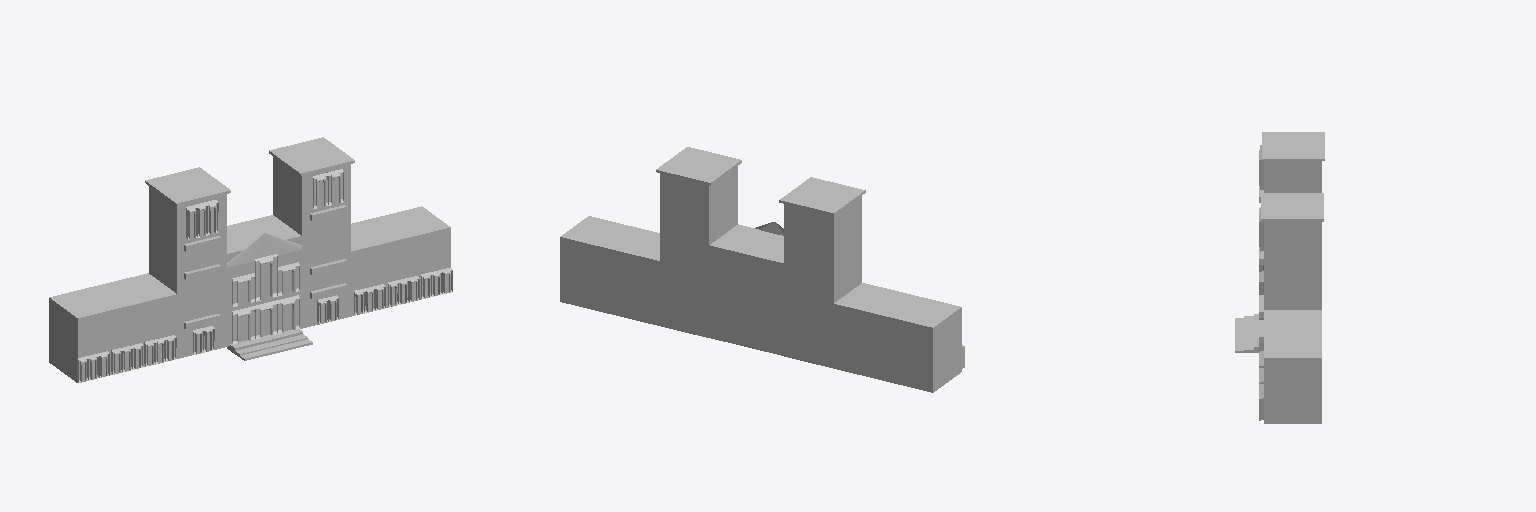
File: royce_hall.obj
The picture shows the model from 3 angles: view 1: azimuth 30°, elevation 25°; view 2: azimuth 150°, elevation 25°; view 3: azimuth 270°, elevation 25°; orthographic projection.
Parts seen in each view (by area): view 1: Cube, Cube.002, Cube.003, Cube.001, Cube.004, Cube.014, Cube.015, Cone; view 2: Cube, Cube.002, Cube.003, Cube.001, Cube.004, Cube.015, Cube.014; view 3: Cube.001, Cube.003, Cube.002, Cube.014, Cube.015.
Boxes of the visible parts, x1,y1,x2,y2 form: Cube: [49, 273, 176, 382]; Cube.002: [149, 186, 226, 358]; Cube.003: [273, 156, 350, 328]; Cube.001: [351, 206, 450, 316]; Cube.004: [227, 215, 301, 346]; Cube.014: [269, 137, 354, 175]; Cube.015: [145, 167, 230, 205]; Cone: [227, 233, 301, 267]; Cube: [834, 283, 961, 392]; Cube.002: [784, 196, 861, 368]; Cube.003: [660, 166, 737, 337]; Cube.001: [560, 216, 659, 325]; Cube.004: [709, 224, 783, 355]; Cube.015: [779, 177, 865, 215]; Cube.014: [656, 147, 741, 185]; Cube.001: [1264, 310, 1321, 423]; Cube.003: [1264, 222, 1321, 309]; Cube.002: [1264, 161, 1321, 192]; Cube.014: [1261, 193, 1323, 221]; Cube.015: [1262, 132, 1324, 160].
Size of the model in its own units: 15.04 by 6.19 by 3.13.